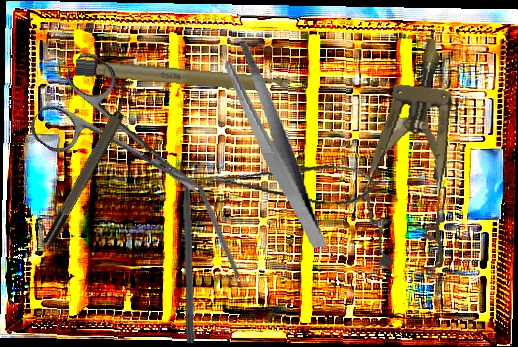Dressing Forceps: (221, 33, 328, 257)
Fixation Ring: (33, 77, 147, 248)
Hook Surgical: (196, 185, 248, 296)
Iris Scissors: (24, 48, 228, 235)
Micro Scissor: (208, 144, 381, 214)
Pusher: (182, 151, 197, 344)
Scalpel Handle: (74, 58, 291, 96)
Speculum: (354, 32, 477, 278)
